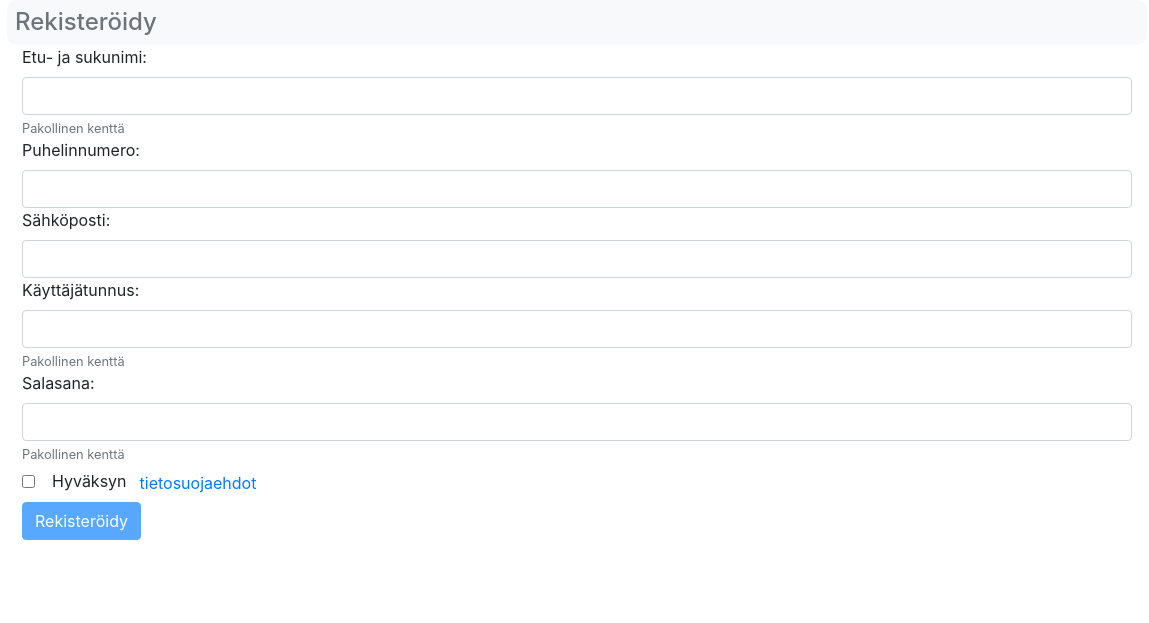
Register page › requires name
Click the checkbox at (28, 481), box top-left (22, 475), bottom-right (35, 488)
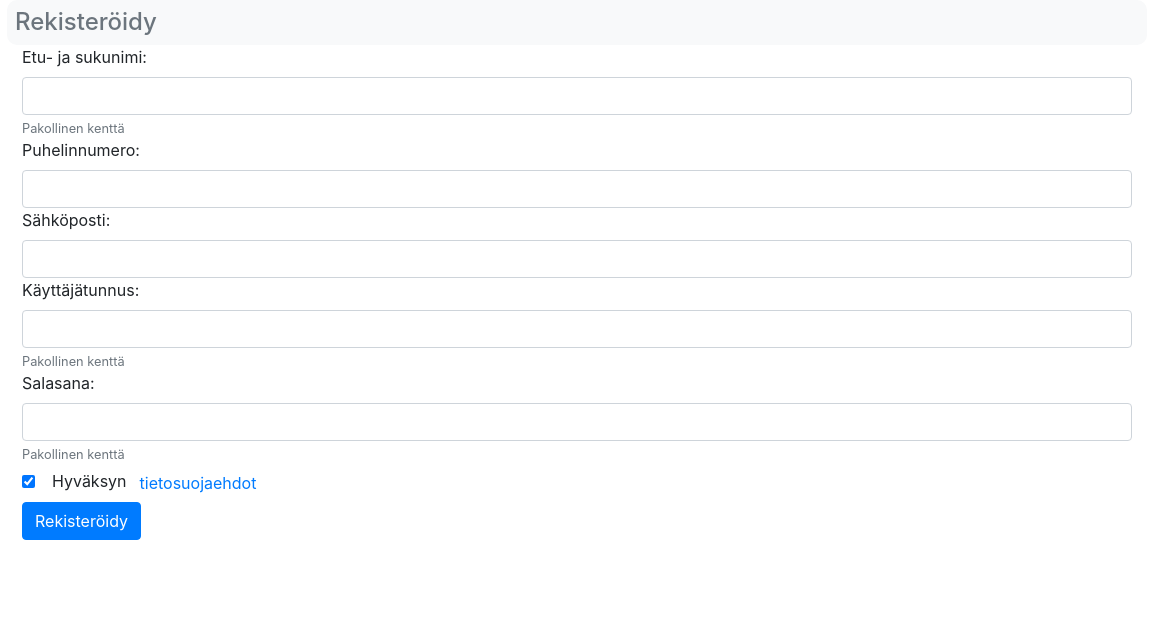
Click the button with test id "submit" at (82, 521), box top-left (22, 502), bottom-right (141, 540)
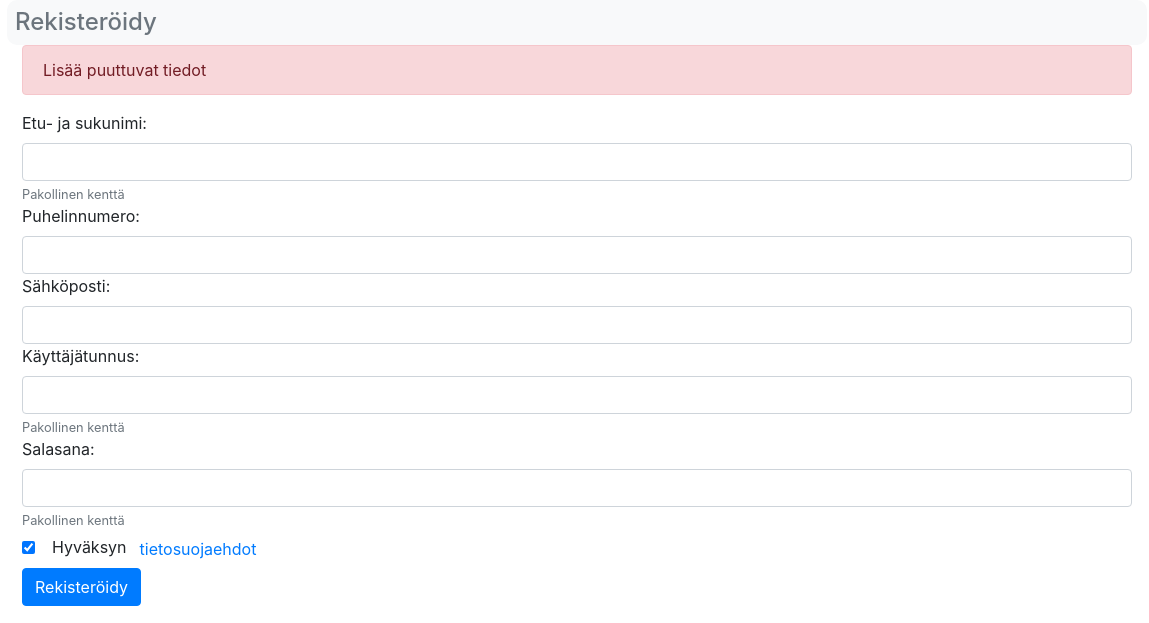
Check: the text "Lisää puuttuvat tiedot" is shown, box top-left (22, 45), bottom-right (1132, 95)
